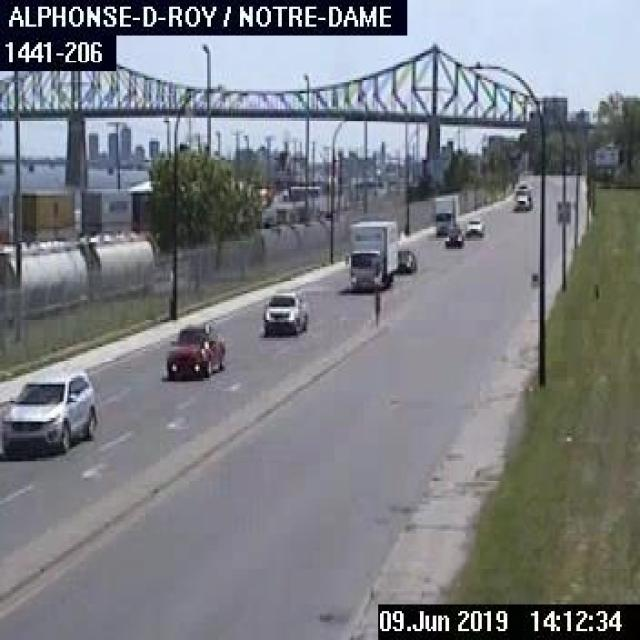vehicle: (0, 364, 98, 456), (345, 215, 398, 289), (164, 320, 227, 378), (260, 287, 305, 333), (431, 189, 459, 238), (511, 178, 533, 213), (395, 246, 416, 277), (462, 215, 482, 240), (444, 230, 463, 249)
